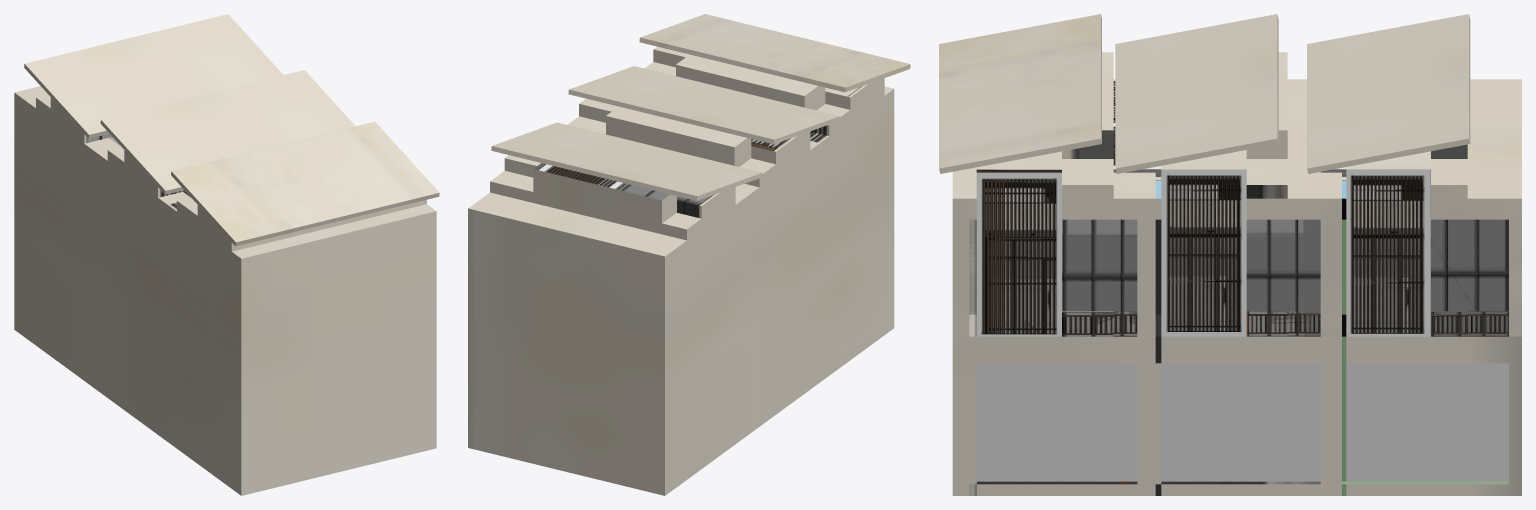
File: ruko.fbx
3 views of the same model, side by side, from view 1: azimuth 30°, elevation 25°; view 2: azimuth 150°, elevation 25°; view 3: azimuth 270°, elevation 25° (orthographic). The views are drawn at different scales.
Visible parts, largest first — view 1: Cube; view 2: Cube; view 3: Cube.
Boxes of the visible parts, x1=… form: Cube: x1=14, y1=14, x2=439, y2=495; Cube: x1=468, y1=14, x2=910, y2=495; Cube: x1=939, y1=14, x2=1521, y2=495.
Size of the model in its own units: 173 by 228 by 339.
